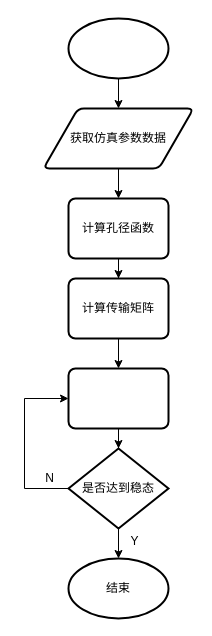
Image size: 212x636. Some labels were removed from this diagram. The centre of each missing label's shape, as x and y in pixels:
开始: point 118,48
迭代计算光场: point 118,398
